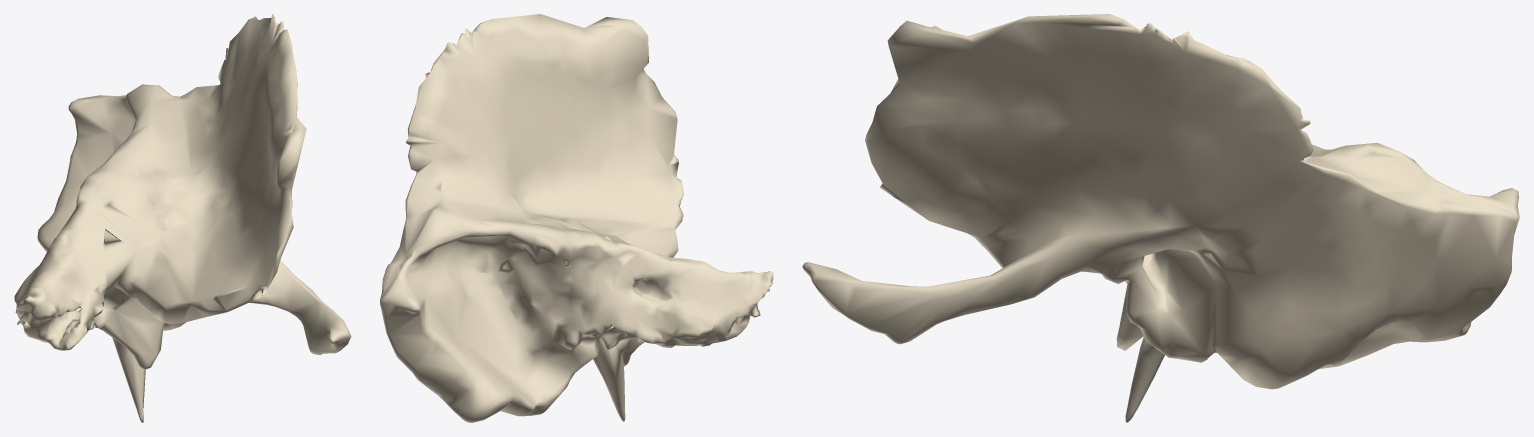
File: temporal-bone-l.glb
3 views of the same model, side by side, from view 1: azimuth 30°, elevation 25°; view 2: azimuth 150°, elevation 25°; view 3: azimuth 270°, elevation 25° (orthographic). The views are drawn at different scales.
Parts seen in each view (by area): view 1: Temporal bone.l; view 2: Temporal bone.l; view 3: Temporal bone.l.
Part boxes in pixels (x1,y1,x2,y2): Temporal bone.l: [14, 14, 351, 422]; Temporal bone.l: [380, 14, 773, 422]; Temporal bone.l: [802, 14, 1519, 422].
Bounding box in the file's own units: 0.0628 × 0.0744 × 0.0963.
